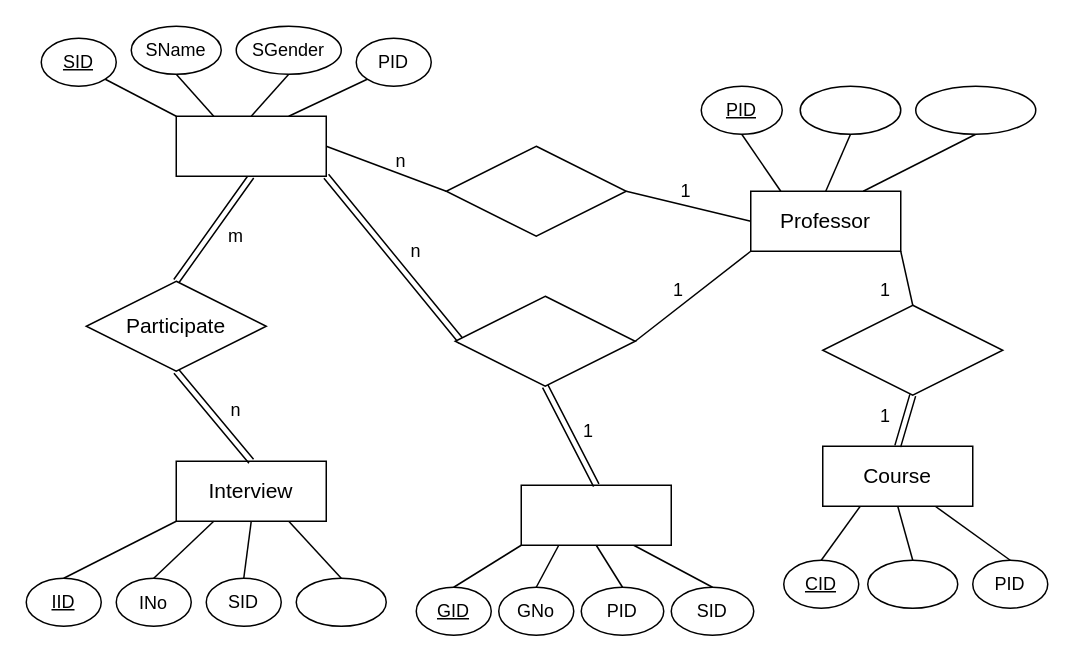
This 1074x662 diagram has some shape labels left out. Each missing label, with the box of its shape:
Advise: (454, 295, 635, 386)
CName: (866, 559, 958, 608)
Grouping: (520, 484, 671, 545)
ITime: (295, 577, 386, 626)
Offer: (821, 304, 1003, 395)
PName: (799, 85, 901, 134)
PRank: (914, 85, 1036, 134)
Research: (445, 145, 626, 236)
Student: (175, 115, 326, 176)
